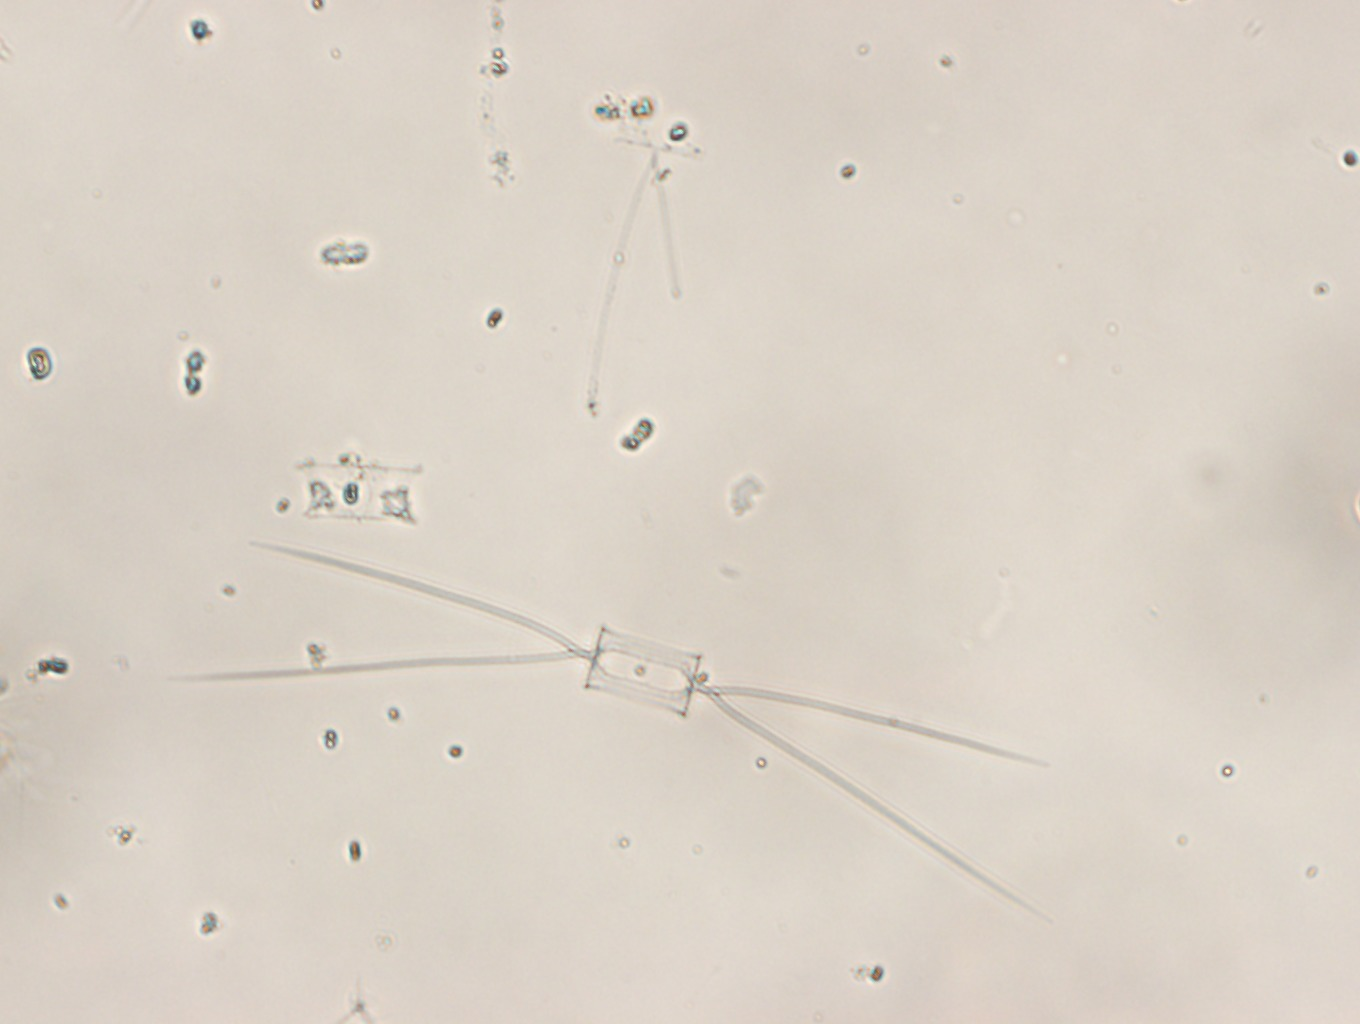chaetoceros: (174, 538, 1059, 931)
